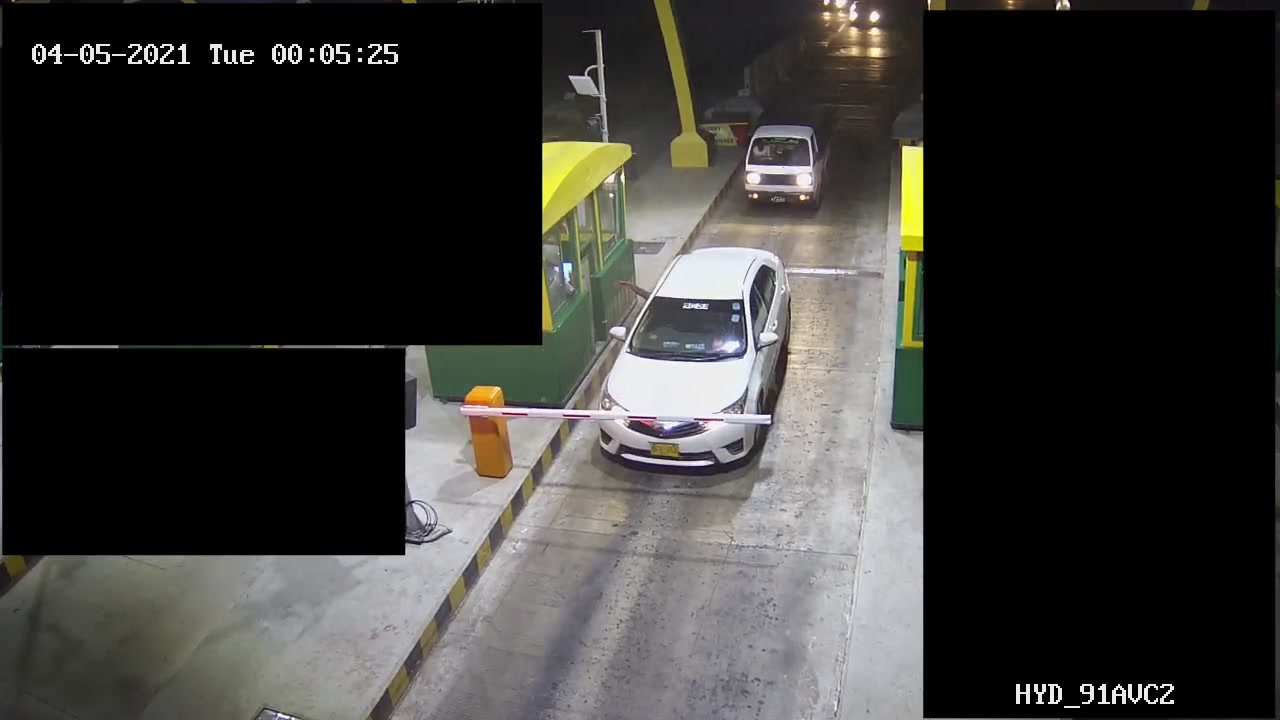F1: (588, 242, 806, 485), (740, 110, 837, 215)
